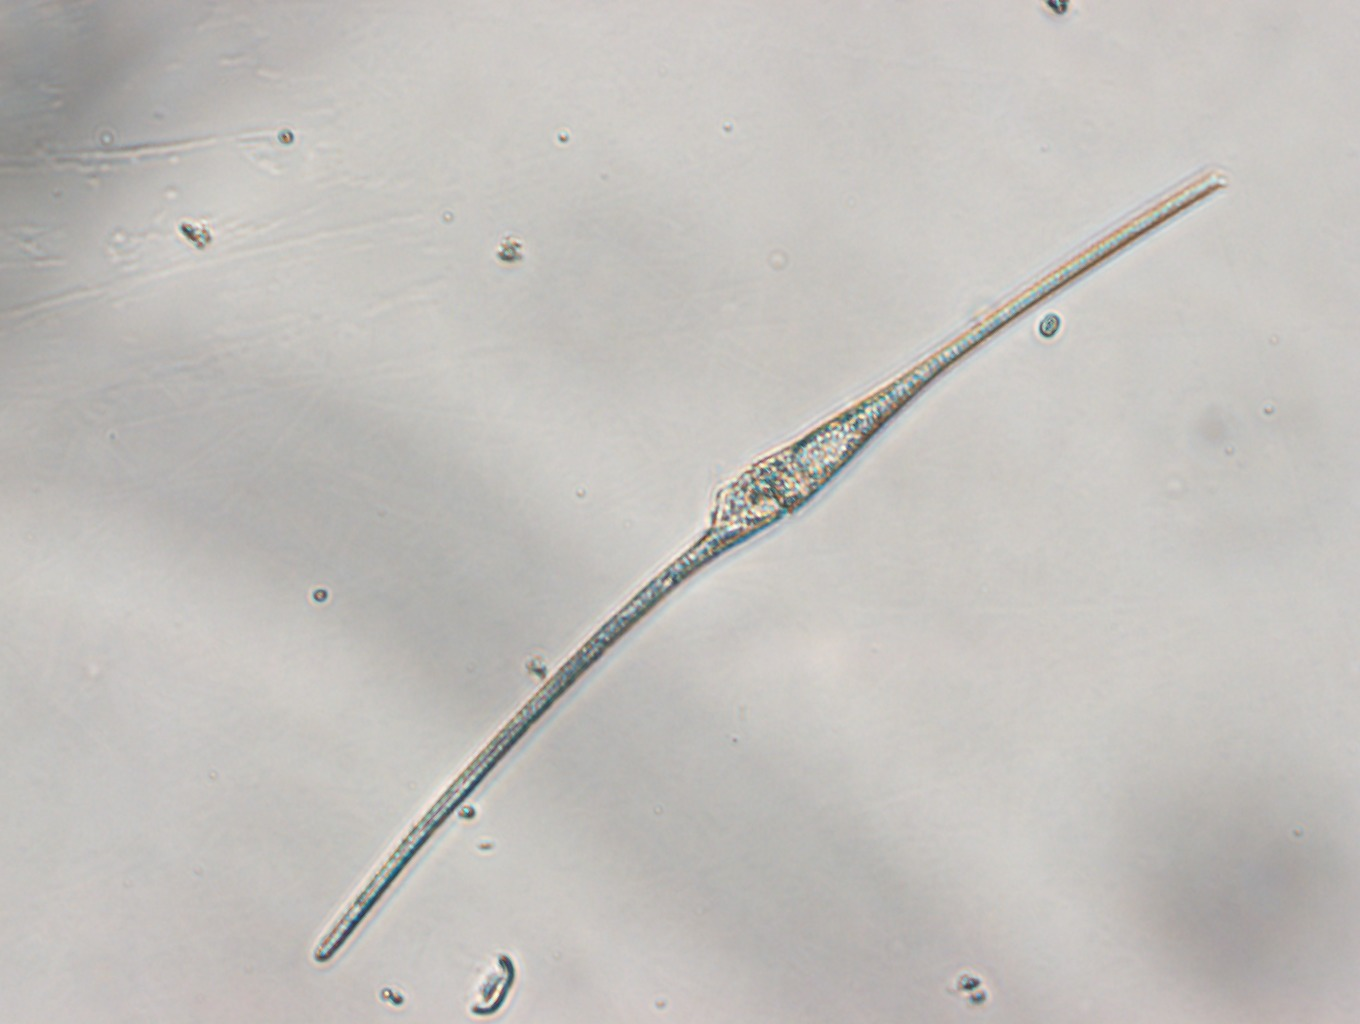ceratium fusus: (305, 162, 1236, 967)
